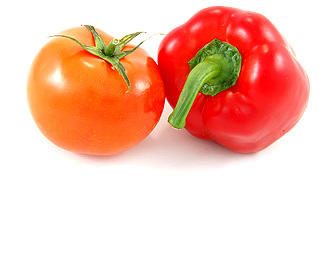capsicum: (156, 4, 312, 157)
